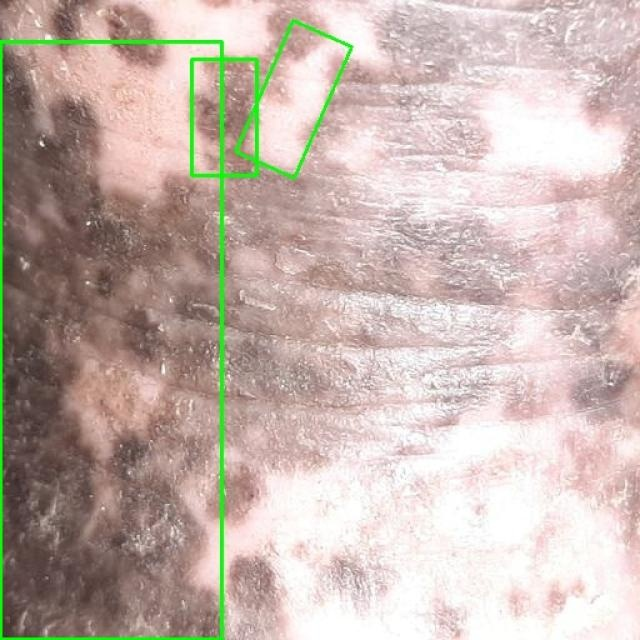Eczema: (0, 41, 221, 639), (235, 21, 352, 178), (191, 59, 256, 175)
